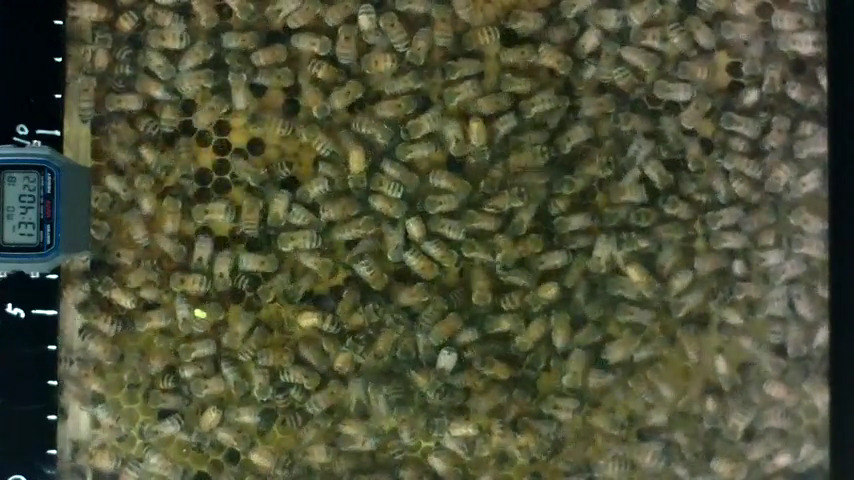hati: (245, 112, 299, 143), (300, 122, 340, 162), (719, 108, 762, 143), (191, 93, 230, 129), (460, 23, 501, 55), (188, 198, 236, 224), (296, 308, 341, 335), (272, 229, 324, 252), (426, 168, 471, 194), (158, 190, 183, 235), (240, 194, 263, 242), (234, 250, 282, 273), (174, 337, 218, 362), (336, 22, 359, 66), (171, 271, 213, 295), (290, 31, 332, 55), (143, 28, 190, 49), (131, 309, 173, 332), (249, 44, 289, 68), (100, 92, 146, 110)
